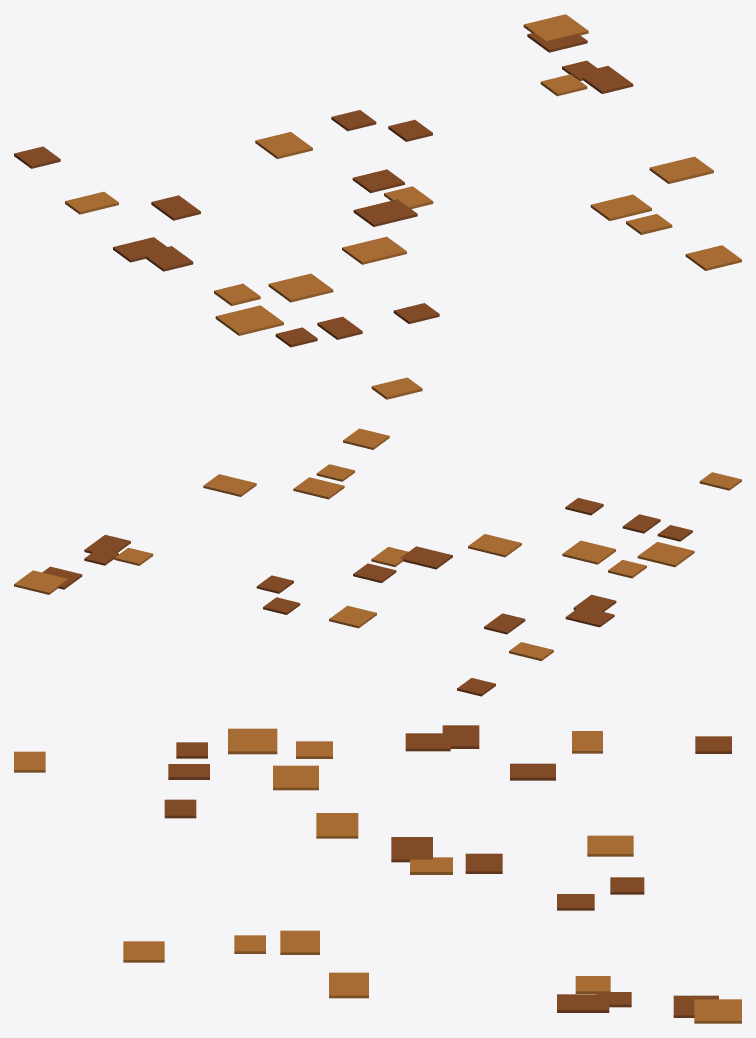
Rendered from e14-autumn-leaf-litter.glb.
3 renders of one model, top to bottom at view 1: azimuth 30°, elevation 25°; view 2: azimuth 150°, elevation 25°; view 3: azimuth 270°, elevation 25°, orthographic. The views are drawn at different scales.
Visible parts, largest first — view 1: part15, part21, part25, part0, part13, part9, part11, part7, part17, part20, part24, part8 (+10 smaller); view 2: part15, part21, part9, part25, part0, part13, part11, part7, part17, part14, part8, part18 (+9 smaller); view 3: part15, part9, part21, part25, part13, part7, part0, part11, part17, part20, part24, part18 (+16 smaller).
Part boxes in pixels (<box>): part15: <box>215,305,283,335</box>; part21: <box>268,273,333,302</box>; part25: <box>342,236,406,264</box>; part0: <box>353,199,417,226</box>; part13: <box>649,156,713,183</box>; part9: <box>523,14,588,40</box>; part11: <box>590,194,651,220</box>; part7: <box>255,132,312,158</box>; part17: <box>685,245,741,270</box>; part20: <box>583,66,633,93</box>; part24: <box>142,246,193,271</box>; part8: <box>352,169,404,193</box>; part15: <box>637,542,694,567</box>; part21: <box>562,540,615,564</box>; part9: <box>14,570,67,594</box>; part25: <box>468,534,521,557</box>; part0: <box>400,546,452,569</box>; part13: <box>203,474,256,496</box>; part11: <box>293,477,344,499</box>; part7: <box>329,605,376,628</box>; part17: <box>343,428,389,449</box>; part14: <box>565,608,614,627</box>; part8: <box>353,563,396,582</box>; part18: <box>484,613,525,634</box>; part15: <box>228,728,277,754</box>; part9: <box>694,999,741,1023</box>; part21: <box>273,765,318,790</box>; part25: <box>316,813,358,838</box>; part13: <box>329,972,368,998</box>; part7: <box>587,835,633,856</box>; part0: <box>391,837,432,862</box>; part11: <box>280,930,319,954</box>; part17: <box>123,941,164,962</box>; part20: <box>557,994,609,1012</box>; part24: <box>405,733,450,751</box>; part18: <box>510,763,555,780</box>.
Bounding box in the file's own units: 2790 × 12.01 × 2904.
